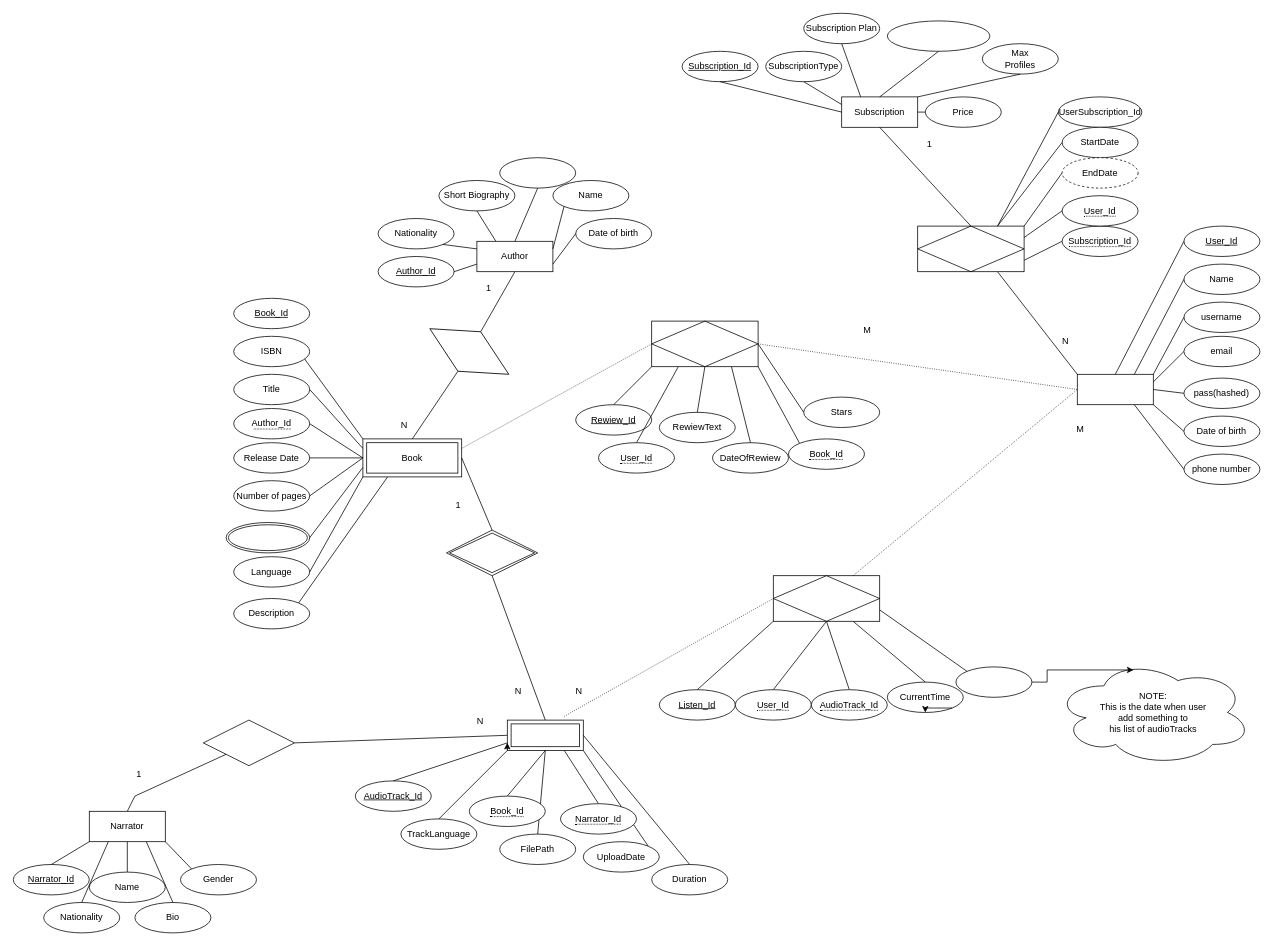
Image size: 1274x946. Some labels were removed from this diagram. Here are the shapes that lost their labels. From the top down, the centre of each, then its label:
At [938,35]: "SubscribtionMonths".
At [537,172]: "Photo Url".
At [970,248]: "UserSubscription".
At [469,351]: "Written by".
At [704,343]: "Rewiew".
At [1115,389]: "User".
At [267,537]: "Category(genre)".
At [492,552]: "has".
At [826,598]: "Listen".
At [993,681]: "SelectedOnDate".
At [248,742]: "Makes".
At [545,734]: "AudioTrack".
